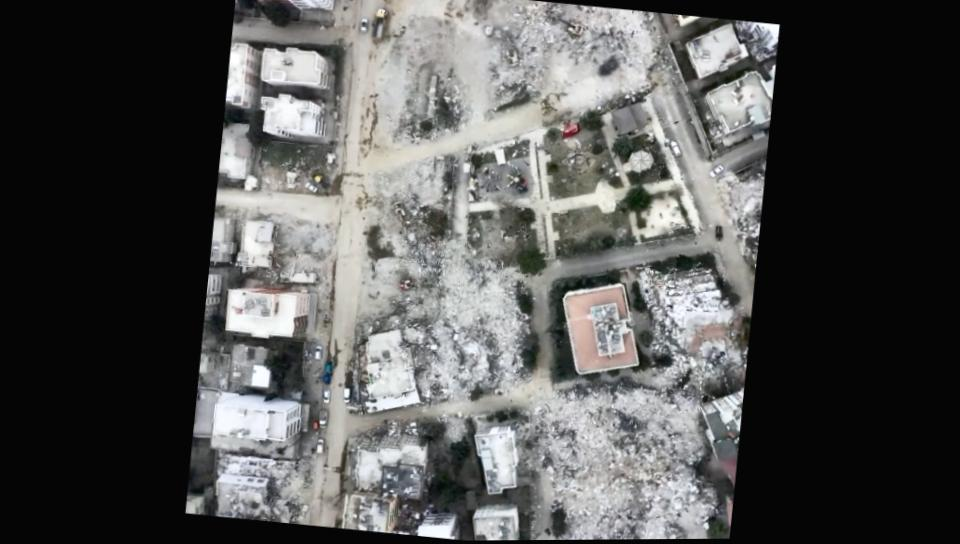kapali: (522, 338, 749, 408), (617, 8, 690, 112)
